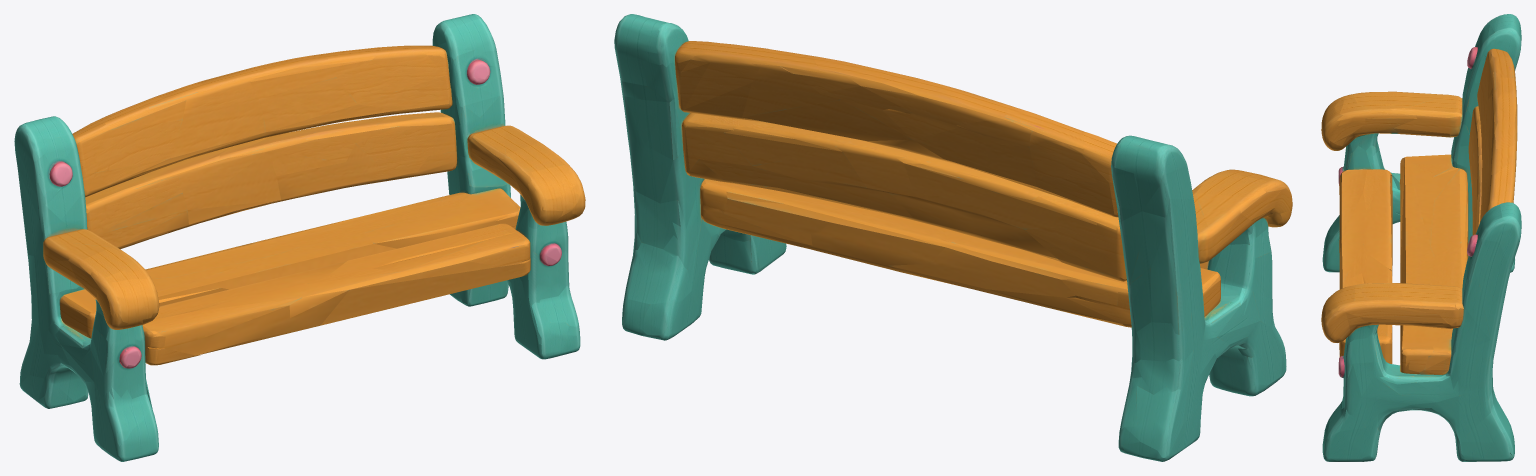
3 views of the same model, side by side, from view 1: azimuth 30°, elevation 25°; view 2: azimuth 150°, elevation 25°; view 3: azimuth 270°, elevation 25° (orthographic). The views are drawn at different scales.
Visible parts, largest first — view 1: island-bench-v1-1.001; view 2: island-bench-v1-1.001; view 3: island-bench-v1-1.001.
Part boxes in pixels (x1,y1,x2,y2): island-bench-v1-1.001: (14, 14, 585, 461); island-bench-v1-1.001: (614, 14, 1292, 461); island-bench-v1-1.001: (1321, 14, 1521, 461).
Bounding box in the file's own units: 1.87 × 1 × 0.7422.
Materials: 1 (1 with a texture image).
